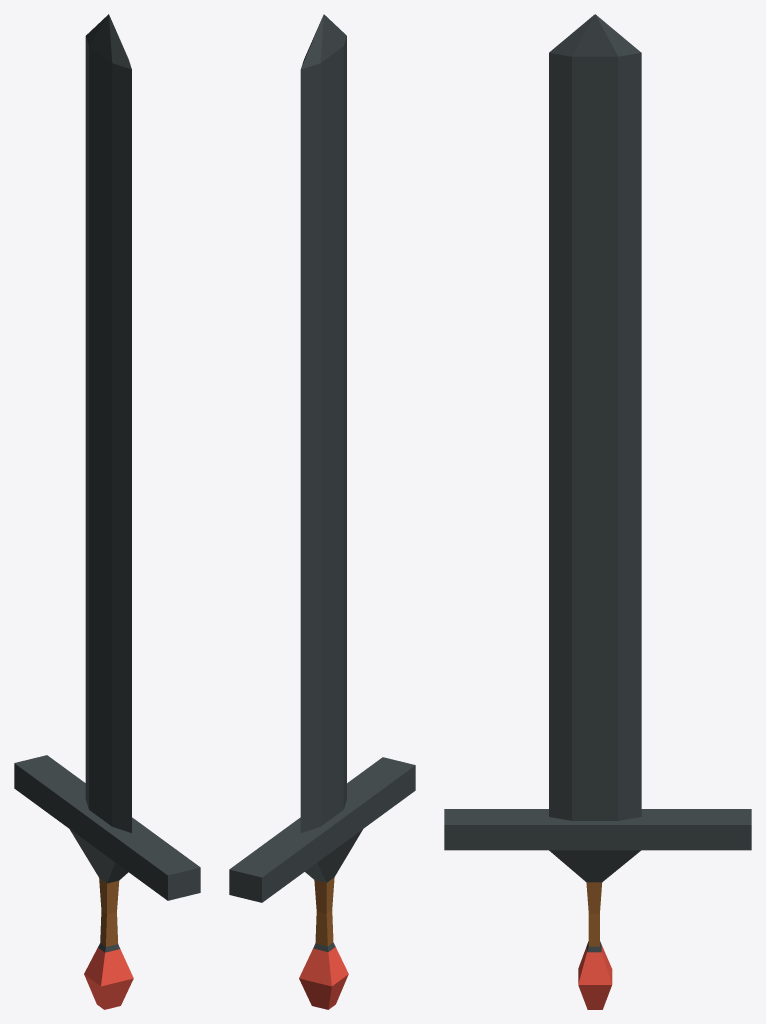
Rendered from big sword.fbx.
3 renders of one model, left to right at view 1: azimuth 30°, elevation 25°; view 2: azimuth 150°, elevation 25°; view 3: azimuth 270°, elevation 25°, orthographic.
Parts seen in each view (by area): view 1: Cube; view 2: Cube; view 3: Cube.
Part boxes in pixels (x1=…): Cube: x1=14, y1=14, x2=200, y2=1009; Cube: x1=229, y1=14, x2=415, y2=1009; Cube: x1=444, y1=14, x2=751, y2=1009.
Size of the model in its own units: 42.68 by 1228 by 345.
